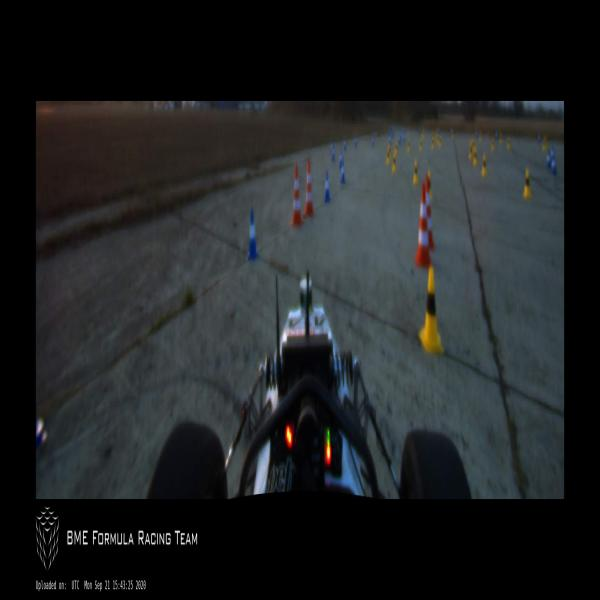blue_cone: (245, 212, 259, 261), (324, 172, 330, 203), (340, 161, 346, 184), (546, 148, 551, 168), (552, 154, 556, 174), (498, 130, 503, 146), (339, 150, 342, 167), (332, 146, 335, 162), (344, 136, 347, 152), (372, 133, 374, 148), (355, 136, 357, 147)
large_orange_cone: (416, 183, 430, 266), (424, 174, 436, 250), (291, 166, 303, 225), (304, 160, 315, 218)
yellow_cone: (421, 270, 444, 356), (524, 169, 532, 198), (428, 170, 433, 199), (482, 153, 488, 176), (413, 160, 419, 183), (473, 147, 478, 166), (468, 141, 473, 160), (386, 146, 390, 166), (392, 154, 396, 172), (507, 136, 511, 151), (407, 138, 411, 152), (431, 136, 435, 150), (491, 136, 494, 152), (395, 141, 398, 154), (420, 137, 422, 154), (439, 135, 441, 148)
